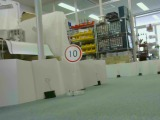speed_10: (64, 44, 82, 63)
